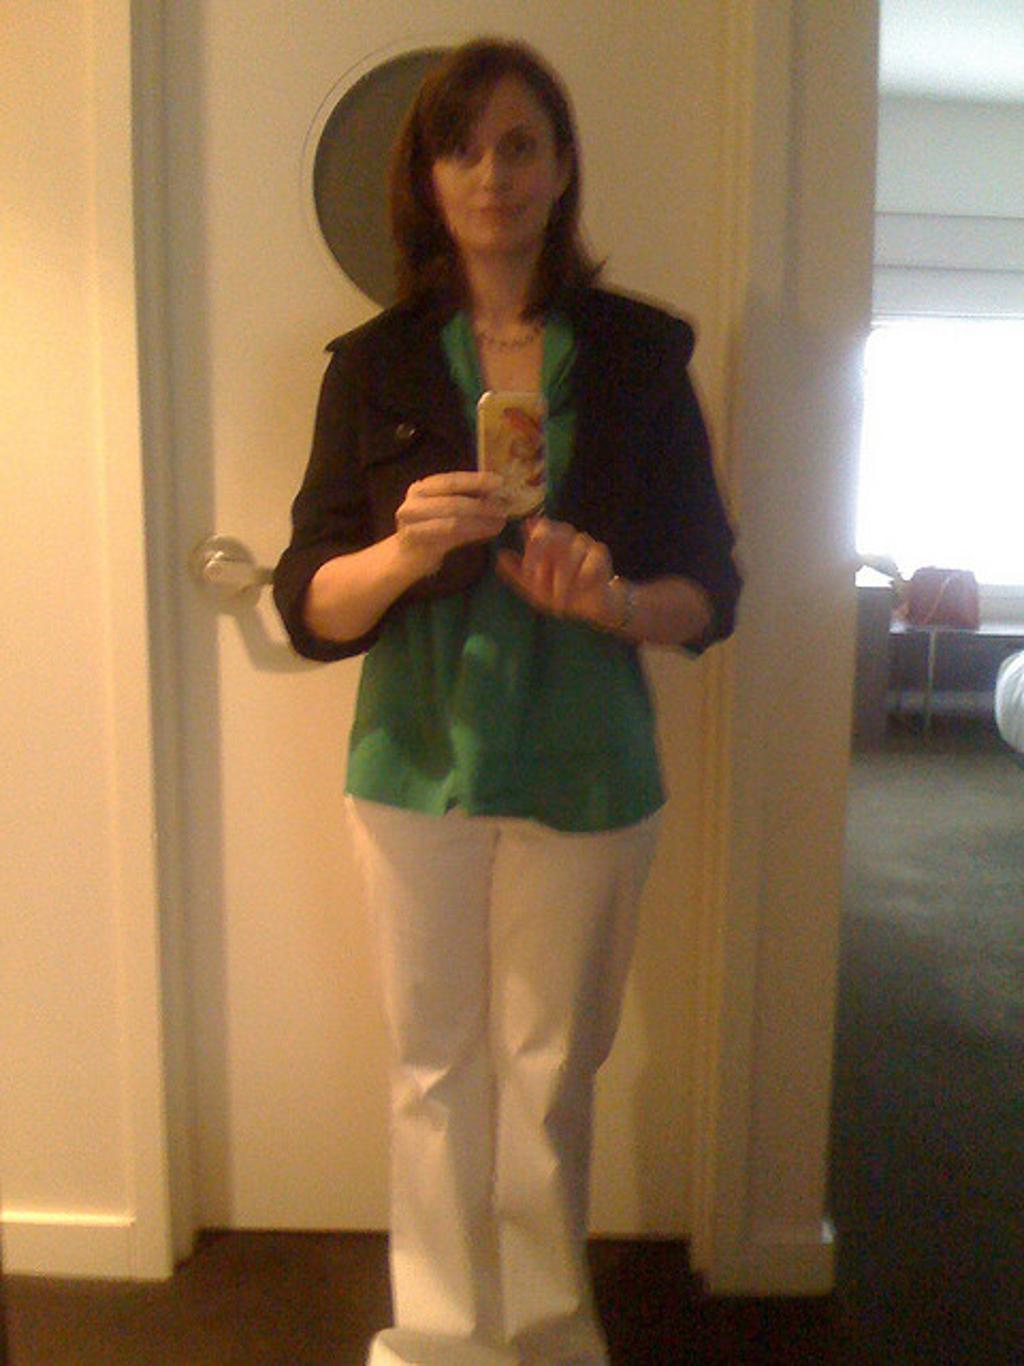face: (438, 86, 553, 254)
